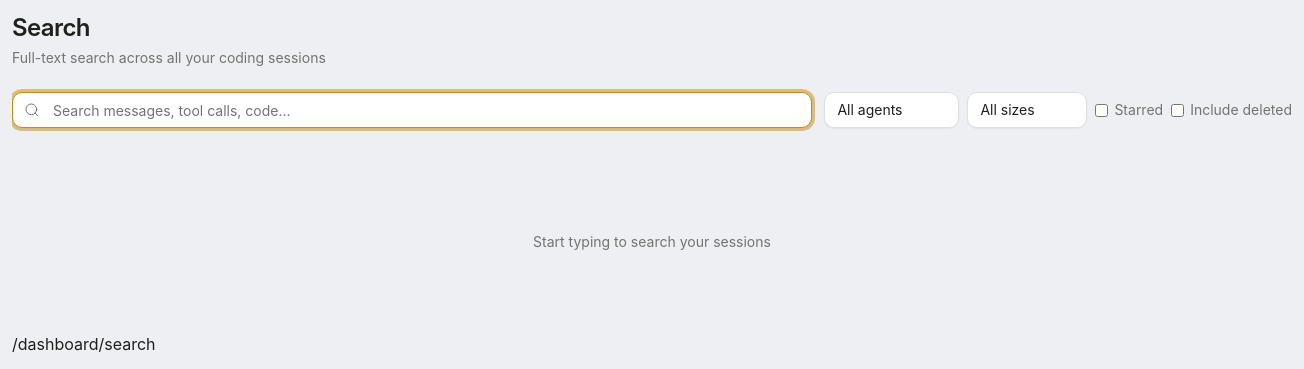
Test case: SearchPage › debounced search shows results and updates URL
The width and height of the screenshot is (1304, 369).
In the search field with test id "search-input": coordinates (412, 110) [12,92,812,128], type "hi"
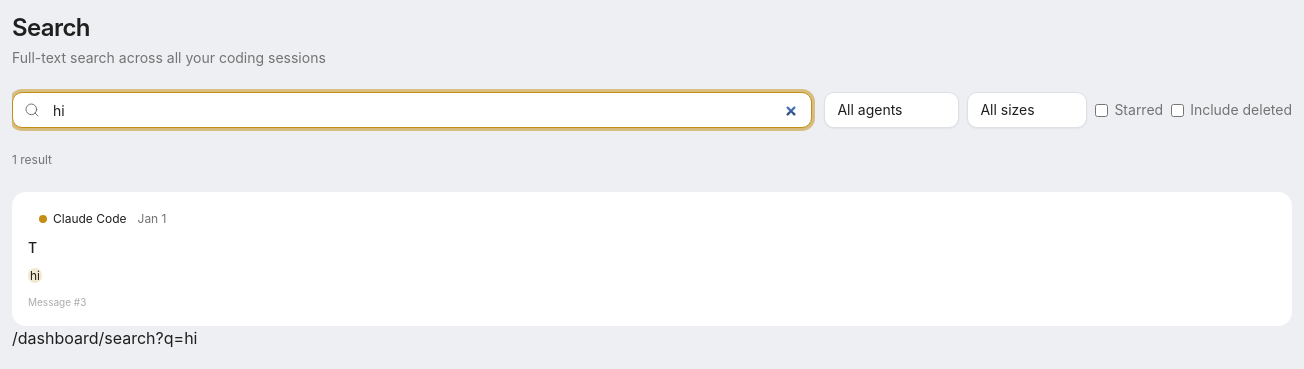
Result: the element with test id "search-results" is shown at [12,192,1292,326]
Result: the text with test id "search-status" reads "1 result" at [12,152,52,167]
Result: the text with test id "location" shows "q=hi" at [156,328,198,348]
